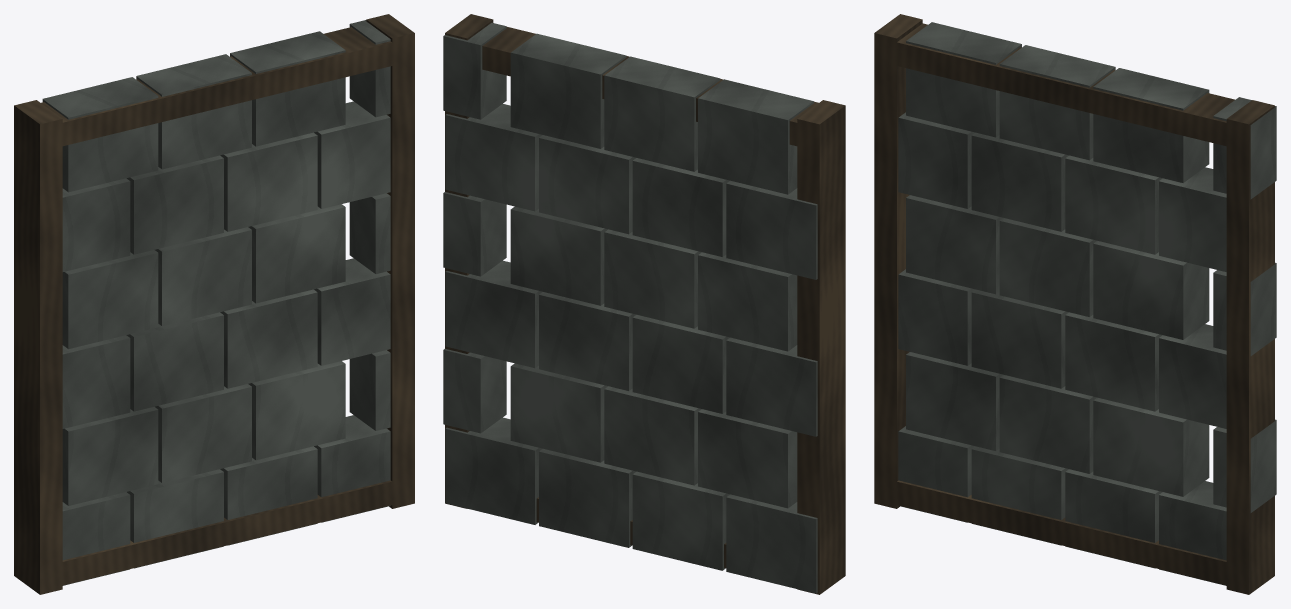
The model's file is Wall_Stone_2m.glb.
The picture shows the model from 3 angles, left to right: view 1: azimuth 30°, elevation 25°; view 2: azimuth 150°, elevation 25°; view 3: azimuth 330°, elevation 25°; orthographic projection.
Visible parts, largest first — view 1: Wall_Stone_2m; view 2: Wall_Stone_2m; view 3: Wall_Stone_2m.
Part boxes in pixels (<box>): Wall_Stone_2m: <box>14,14,414,594</box>; Wall_Stone_2m: <box>443,14,845,594</box>; Wall_Stone_2m: <box>874,14,1276,594</box>.
Bounding box in the file's own units: 2 × 2.4 × 0.255.
Materials: 2 (2 with a texture image).
